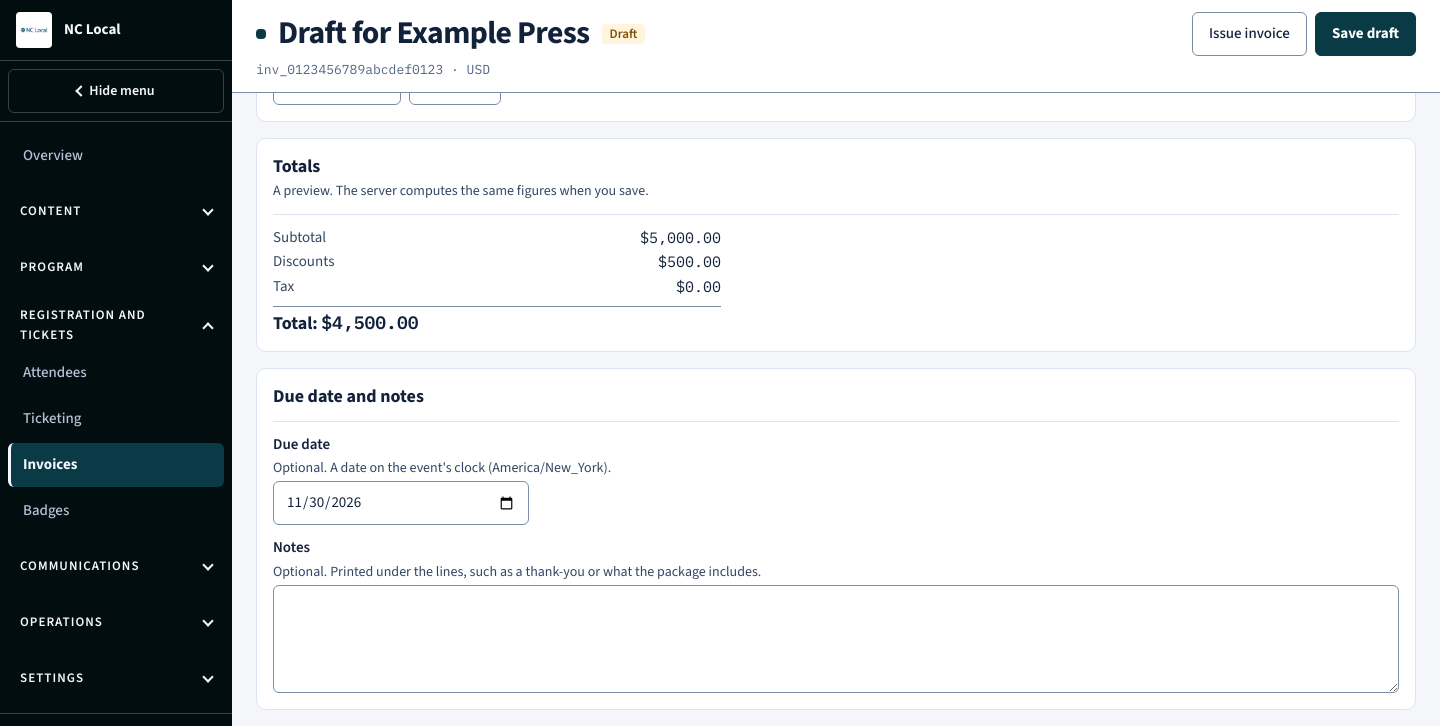
Scenario: the invoice editor › reopens a saved draft with its figures and sends its revision
The width and height of the screenshot is (1440, 726).
(page scrolled)
Expected: the heading "Draft for Example Press" is shown, x1=278 y1=15 x2=590 y2=53
Expected: the element with test id "invoice-total" reads "Total: $4,500.00", x1=273 y1=306 x2=721 y2=336
Type "Thank you." into the text box labelled "Notes".
click(836, 639); type("Thank you.")  # box x1=273 y1=585 x2=1399 y2=693
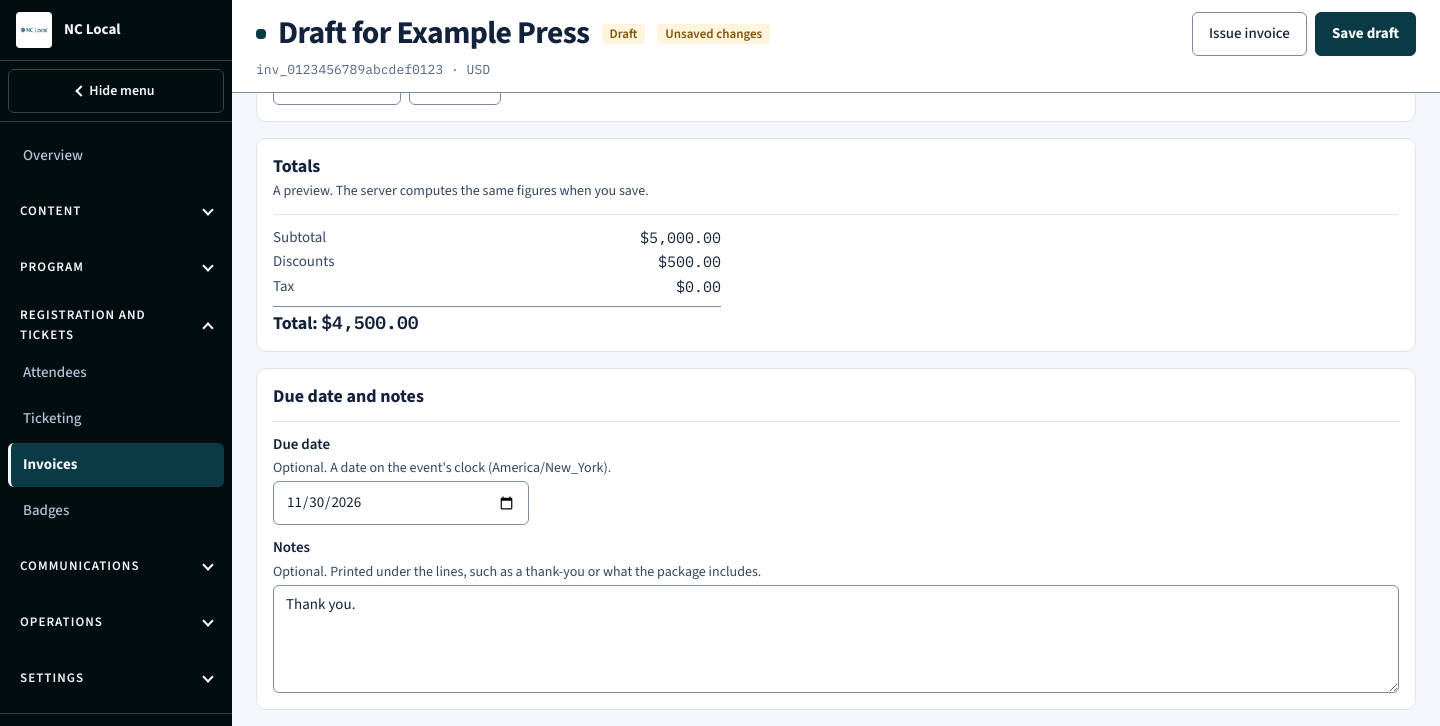
Click the button "Save draft".
click(1365, 34)  # box x1=1315 y1=12 x2=1416 y2=56
(page scrolled)
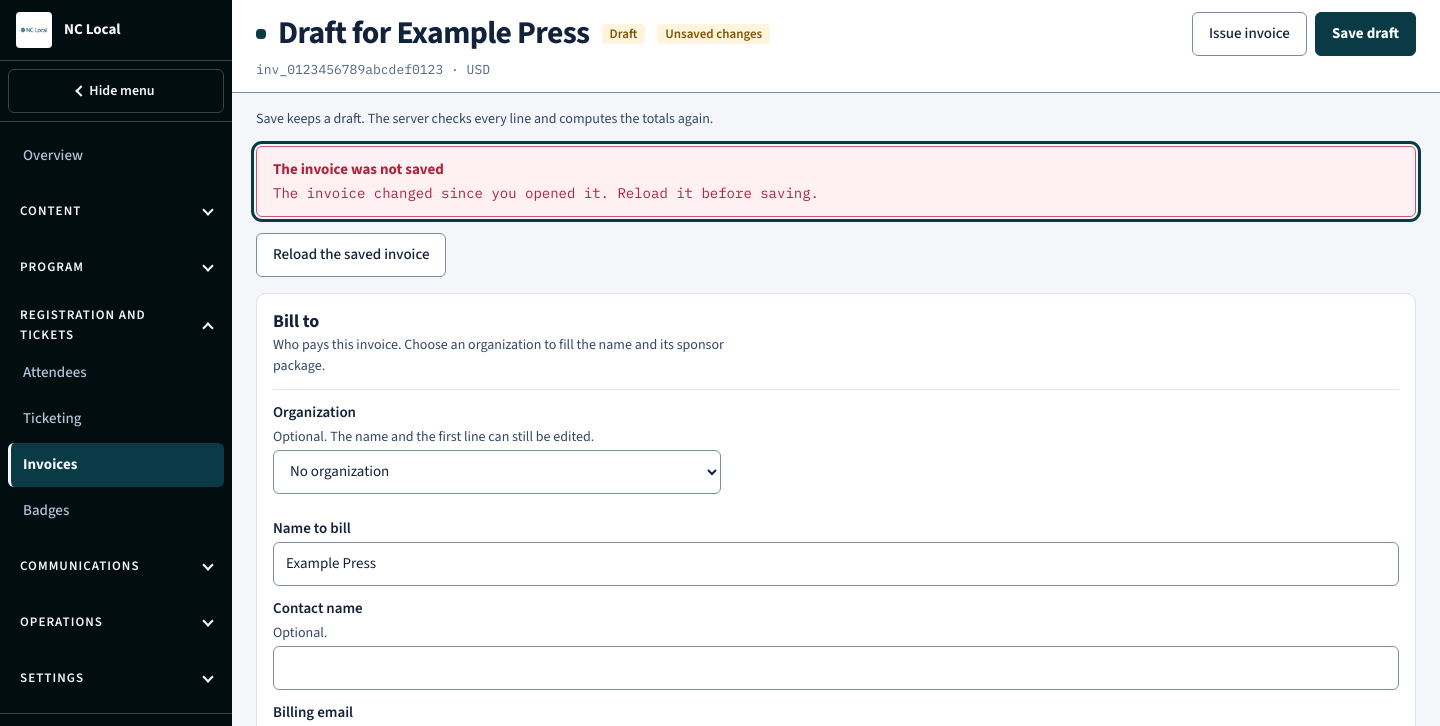
Result: the message shows "The invoice changed since you opened it." at x1=273 y1=184 x2=819 y2=202
Result: the button "Reload the saved invoice" is shown at x1=256 y1=233 x2=446 y2=277
